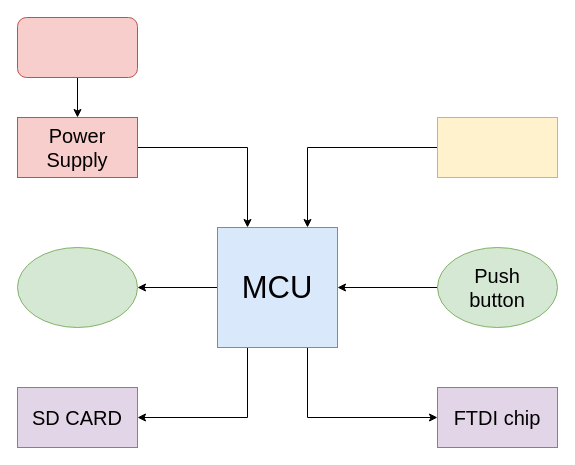
This 575x465 diagram has some shape labels left out. Each missing label, with the centre of its shape:
2 x AAA batteries: the point at 77,47
LED: the point at 77,287
Temperature Sensor: the point at 497,147
